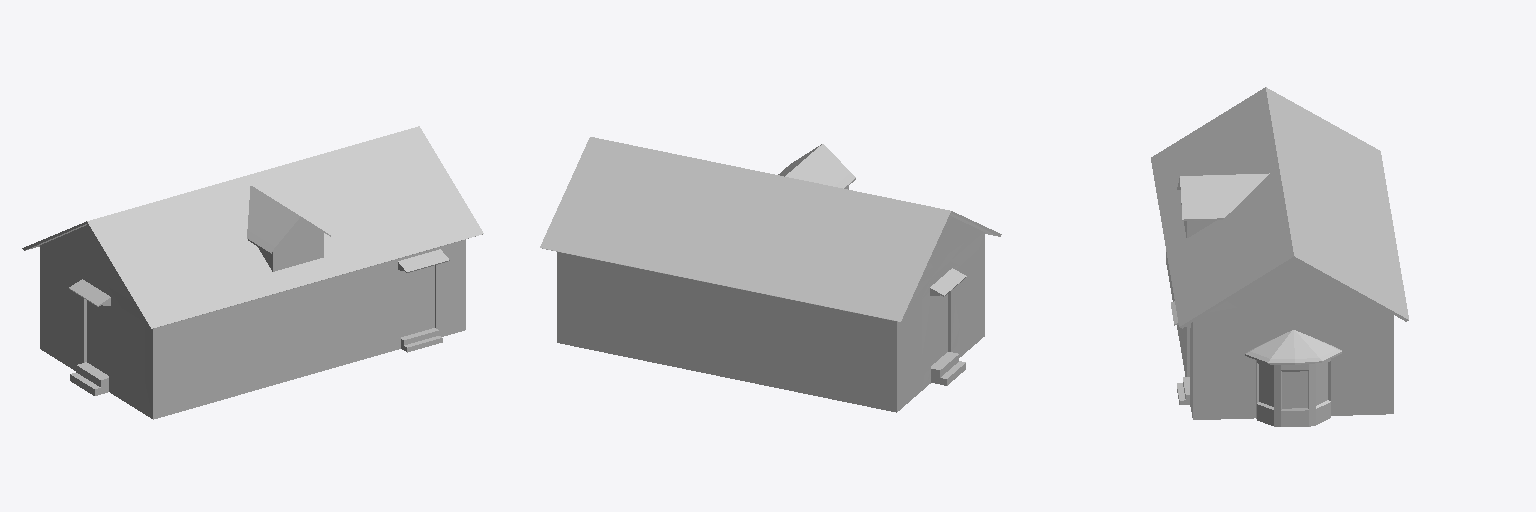
File: objCotage.obj
3 renders of one model, left to right at view 1: azimuth 30°, elevation 25°; view 2: azimuth 150°, elevation 25°; view 3: azimuth 270°, elevation 25°, orthographic.
Visible parts, largest first — view 1: cotage; view 2: cotage; view 3: cotage.
Part boxes in pixels (left/top/right/bottom): cotage: left=22, top=126, right=483, bottom=419; cotage: left=540, top=137, right=1001, bottom=412; cotage: left=1151, top=87, right=1408, bottom=426.
Size of the model in its own units: 8.13 by 3.52 by 4.97.